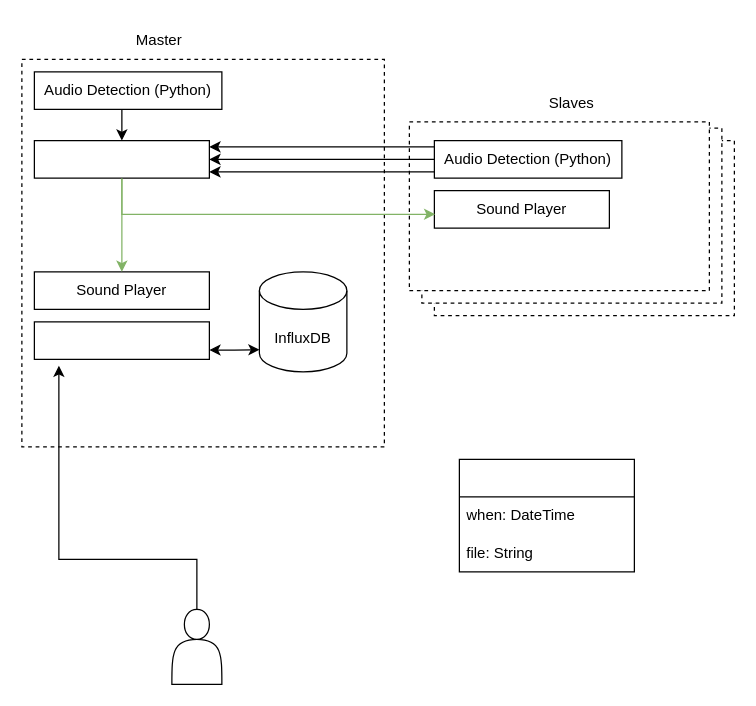
Some shapes in this 756 by 706 pixel diagram are drawn without their labels. Here are the shapes that lost their labels. From the top down, the box of each, then its label:
(33, 139, 209, 178): Sound Distributor
(33, 321, 209, 359): Journal (Next.js)
(458, 458, 634, 572): Sound
